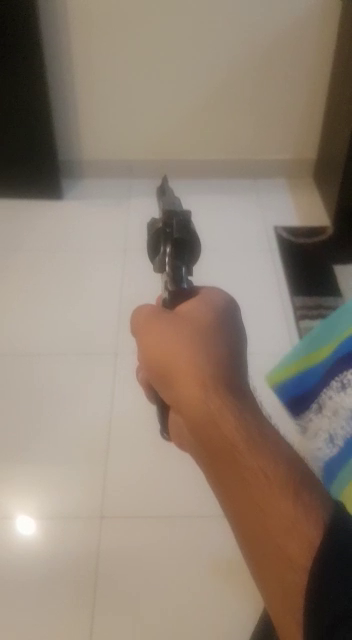handgun: (133, 173, 229, 472)
